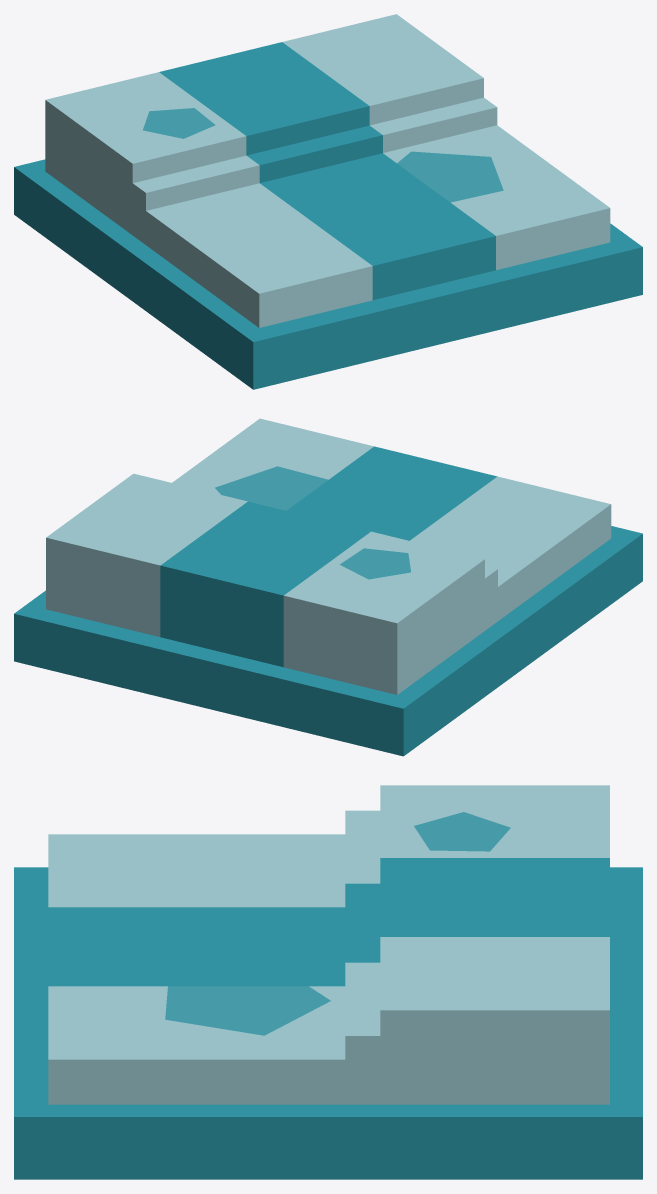
The model's file is Monarch_Platform.fbx.
3 renders of one model, top to bottom at view 1: azimuth 30°, elevation 25°; view 2: azimuth 150°, elevation 25°; view 3: azimuth 270°, elevation 25°, orthographic. The views are drawn at different scales.
Parts seen in each view (by area): view 1: Monarch_Platform_Geo; view 2: Monarch_Platform_Geo; view 3: Monarch_Platform_Geo.
Part boxes in pixels (left/top/right/bottom): Monarch_Platform_Geo: left=14, top=14, right=642, bottom=389; Monarch_Platform_Geo: left=14, top=418, right=642, bottom=756; Monarch_Platform_Geo: left=14, top=785, right=642, bottom=1179.
Size of the model in its own units: 222 by 64.9 by 236.
